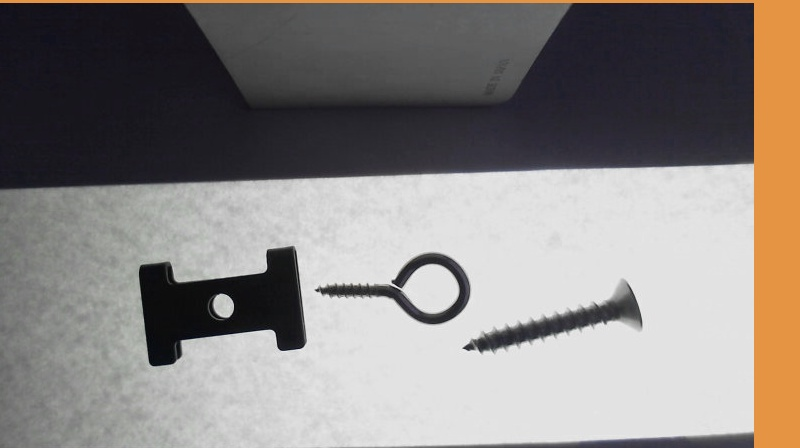O001: (313, 251, 470, 323)
O002: (137, 244, 306, 365)
S001: (463, 275, 642, 352)
